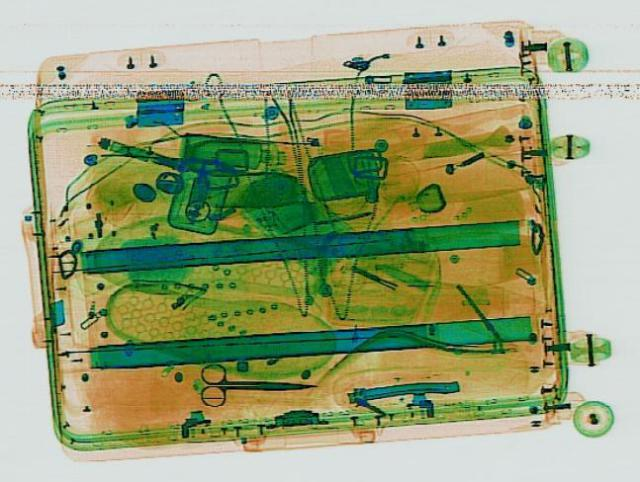Scissors: (195, 360, 319, 407)
